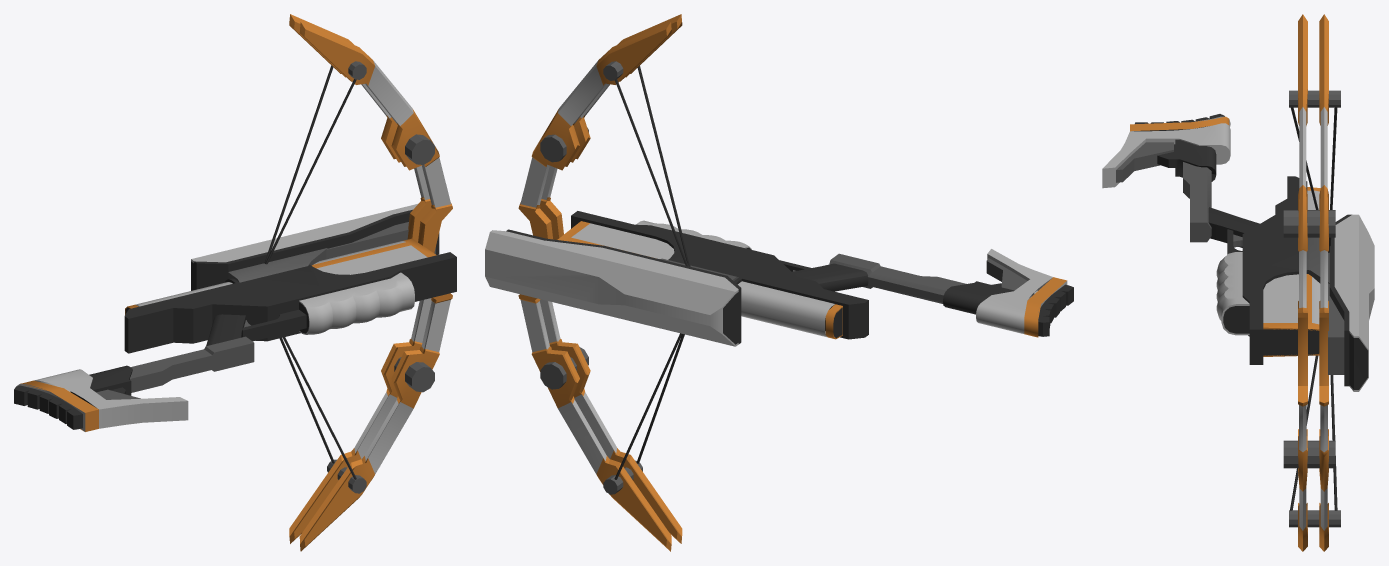
Rendered from qg-crossbow-1-lod1.glb.
The picture shows the model from 3 angles, left to right: view 1: azimuth 30°, elevation 25°; view 2: azimuth 150°, elevation 25°; view 3: azimuth 270°, elevation 25°; orthographic projection.
Visible parts, largest first — view 1: WeaponMesh_qg-crossbow-1_Crossbow_1; view 2: WeaponMesh_qg-crossbow-1_Crossbow_1; view 3: WeaponMesh_qg-crossbow-1_Crossbow_1.
Part boxes in pixels (box(x1,y1,x2,y2)): WeaponMesh_qg-crossbow-1_Crossbow_1: box(14, 14, 456, 551); WeaponMesh_qg-crossbow-1_Crossbow_1: box(485, 14, 1073, 551); WeaponMesh_qg-crossbow-1_Crossbow_1: box(1102, 14, 1374, 551).
Bounding box in the file's own units: 1.07 × 1.1 × 0.5047.
